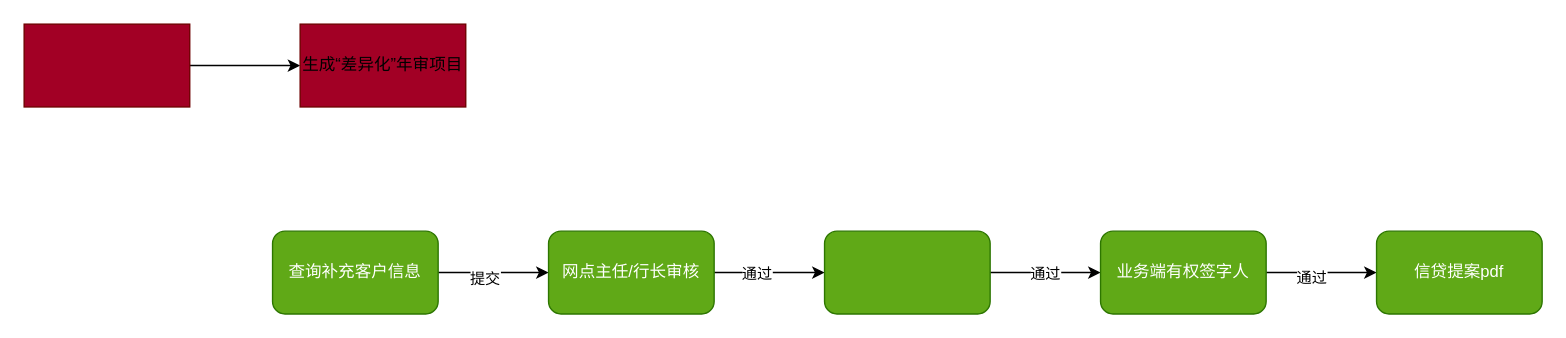
Some shapes in this 1566 by 338 pixel diagram are drawn without their labels. Each missing label, with the centre of its shape:
存量客户“差异化”年审打分卡: (106,65)
普惠部主任审核: (906,272)
